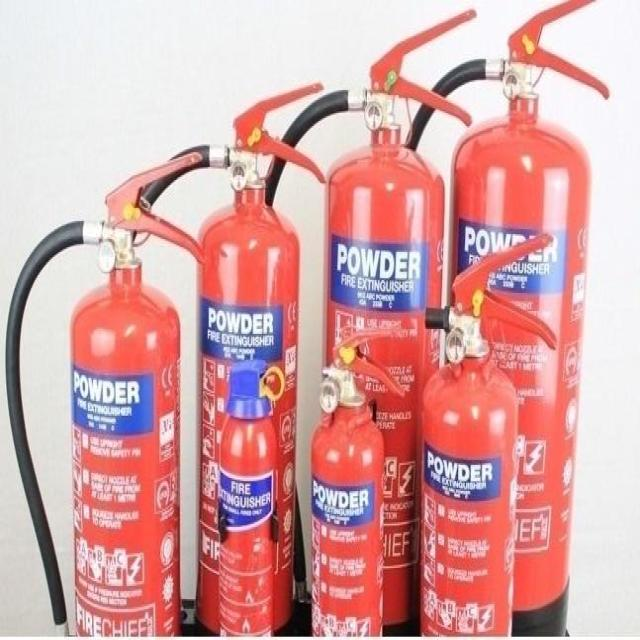fire_extinguisher: (239, 4, 480, 638), (383, 0, 612, 638), (112, 79, 329, 638), (0, 146, 209, 638), (412, 230, 559, 638), (304, 321, 406, 638), (212, 356, 282, 638)
